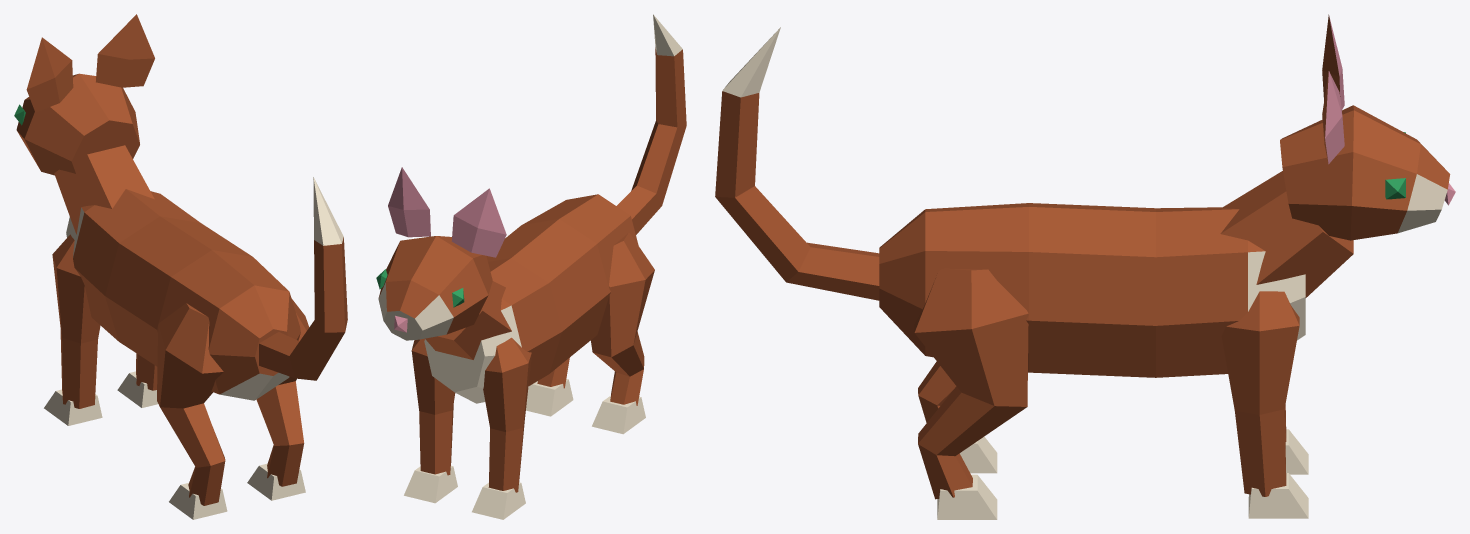
The model's file is cat.glb.
3 renders of one model, left to right at view 1: azimuth 30°, elevation 25°; view 2: azimuth 150°, elevation 25°; view 3: azimuth 270°, elevation 25°, orthographic. The views are drawn at different scales.
Parts seen in each view (by area): view 1: Body, Head, Leg_RL, Tail, Leg_FL, Leg_RR, Leg_FR; view 2: Body, Head, Leg_RL, Leg_FL, Tail, Leg_FR, Leg_RR; view 3: Body, Head, Leg_RR, Tail, Leg_FR, Leg_RL, Leg_FL.
Part boxes in pixels (x1,y1,x2,y2): Body: (66, 189, 300, 400); Head: (14, 14, 154, 234); Leg_RL: (157, 303, 227, 519); Tail: (259, 177, 347, 380); Leg_FL: (44, 234, 102, 425); Leg_RR: (247, 298, 309, 500); Leg_FR: (117, 353, 158, 407); Body: (424, 194, 638, 403); Head: (376, 167, 511, 359); Leg_RL: (591, 233, 654, 434); Leg_FL: (472, 337, 531, 519); Tail: (616, 14, 686, 234); Leg_FR: (404, 338, 457, 503); Leg_RR: (526, 357, 573, 416); Body: (879, 203, 1305, 377); Head: (1220, 14, 1455, 297); Leg_RR: (914, 268, 1028, 519); Tail: (715, 27, 879, 300); Leg_FR: (1221, 291, 1308, 518); Leg_RL: (918, 361, 997, 473); Leg_FL: (1284, 404, 1308, 474).
Bounding box in the file's own units: 0.1712 × 0.44 × 0.6425.
